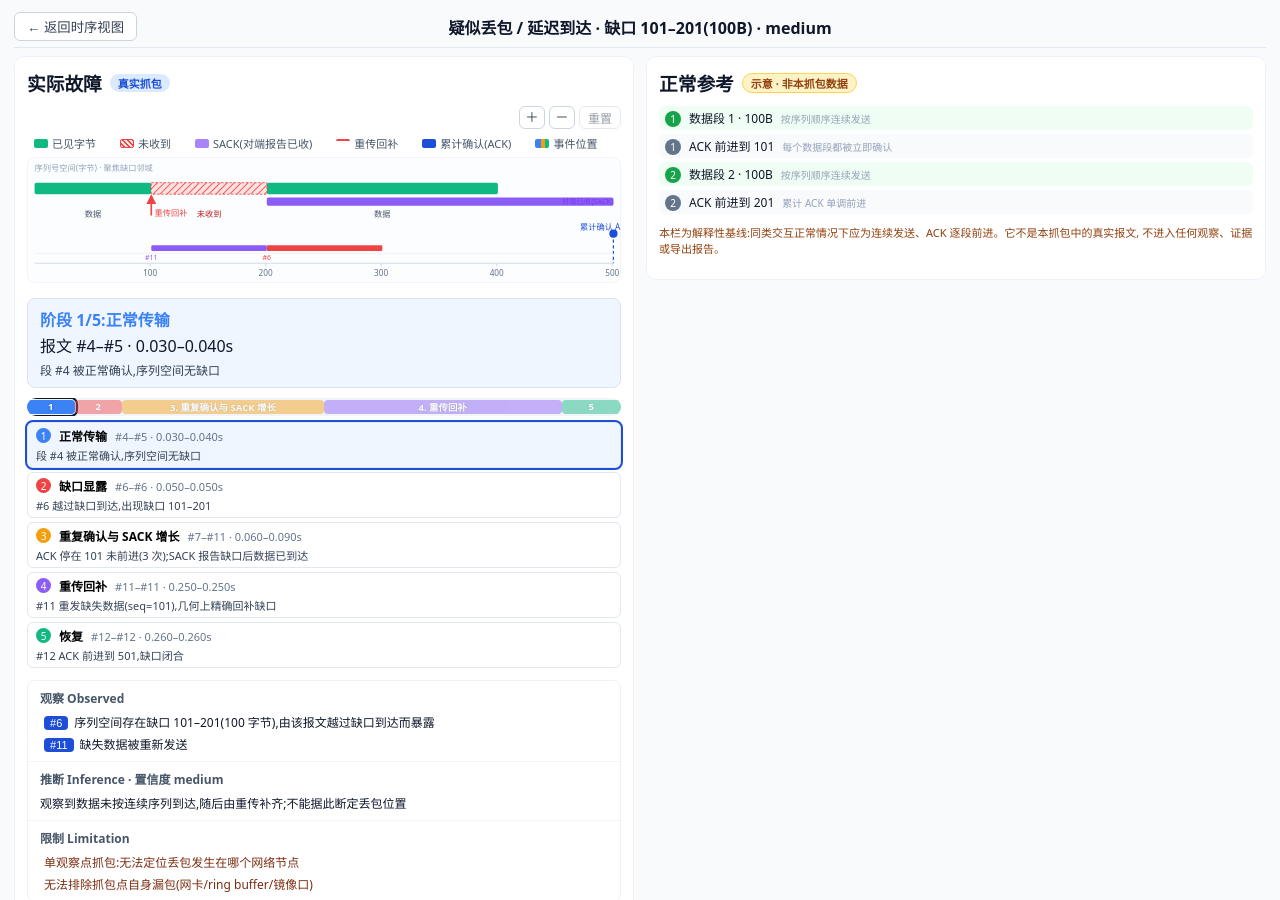
Test: FaultCompare 完整序列空间视图(M5:缩放/筛选) › 缩放控件:放大改变刻度窗口,重置恢复;未缩放时重置禁用
This screenshot has width=1280, height=900.
Check: the picture with test id "fc-seqspace" shows "500", box [605,268,619,279]
Check: the button with test id "fc-zoom-reset" is disabled, box [579,106,621,129]
Click the button with test id "fc-zoom-in" at (532, 118), box [519,106,545,129]
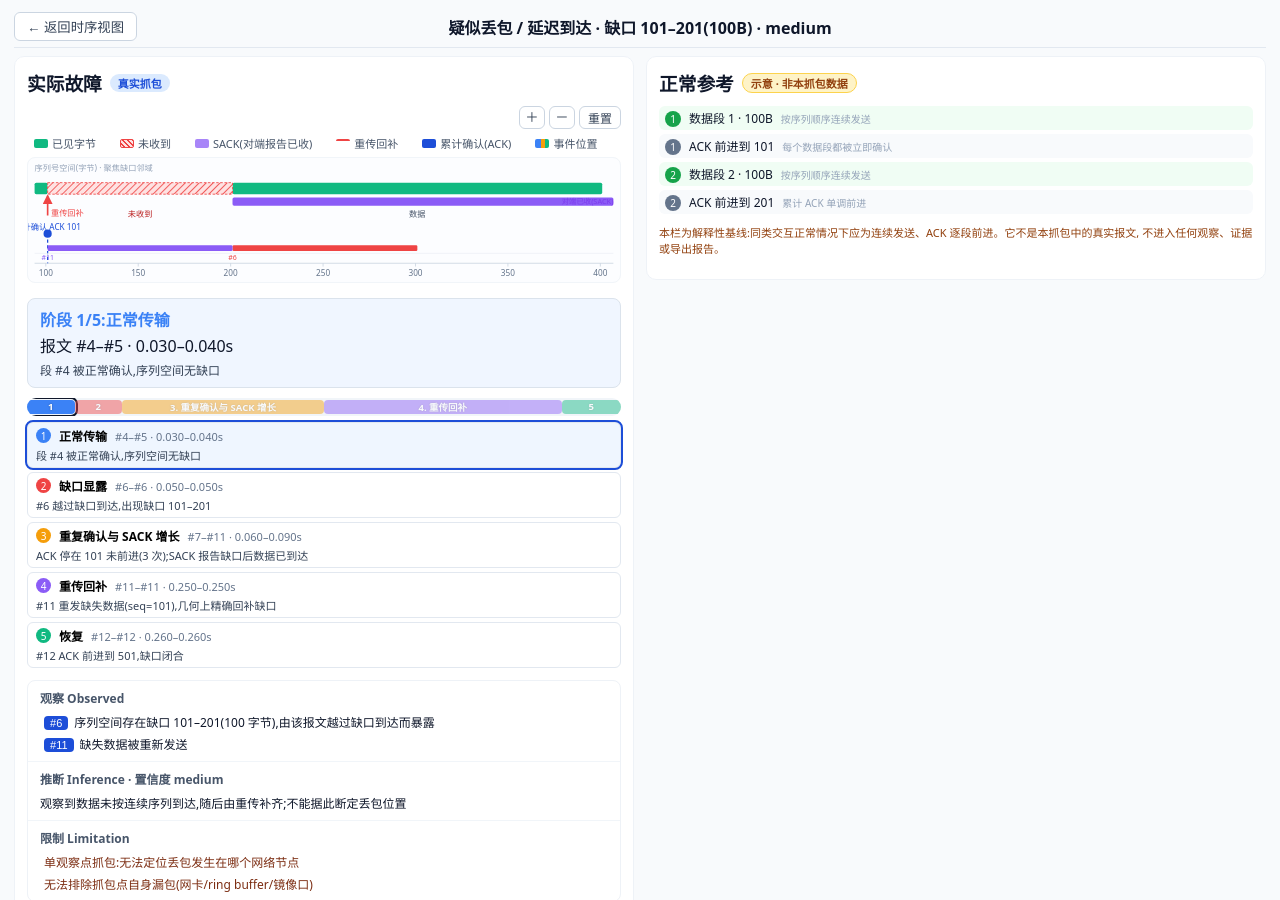
Check: the picture with test id "fc-seqspace" no longer shows "500"
Click the button with test id "fc-zoom-reset" at (600, 118), box [579,106,621,129]
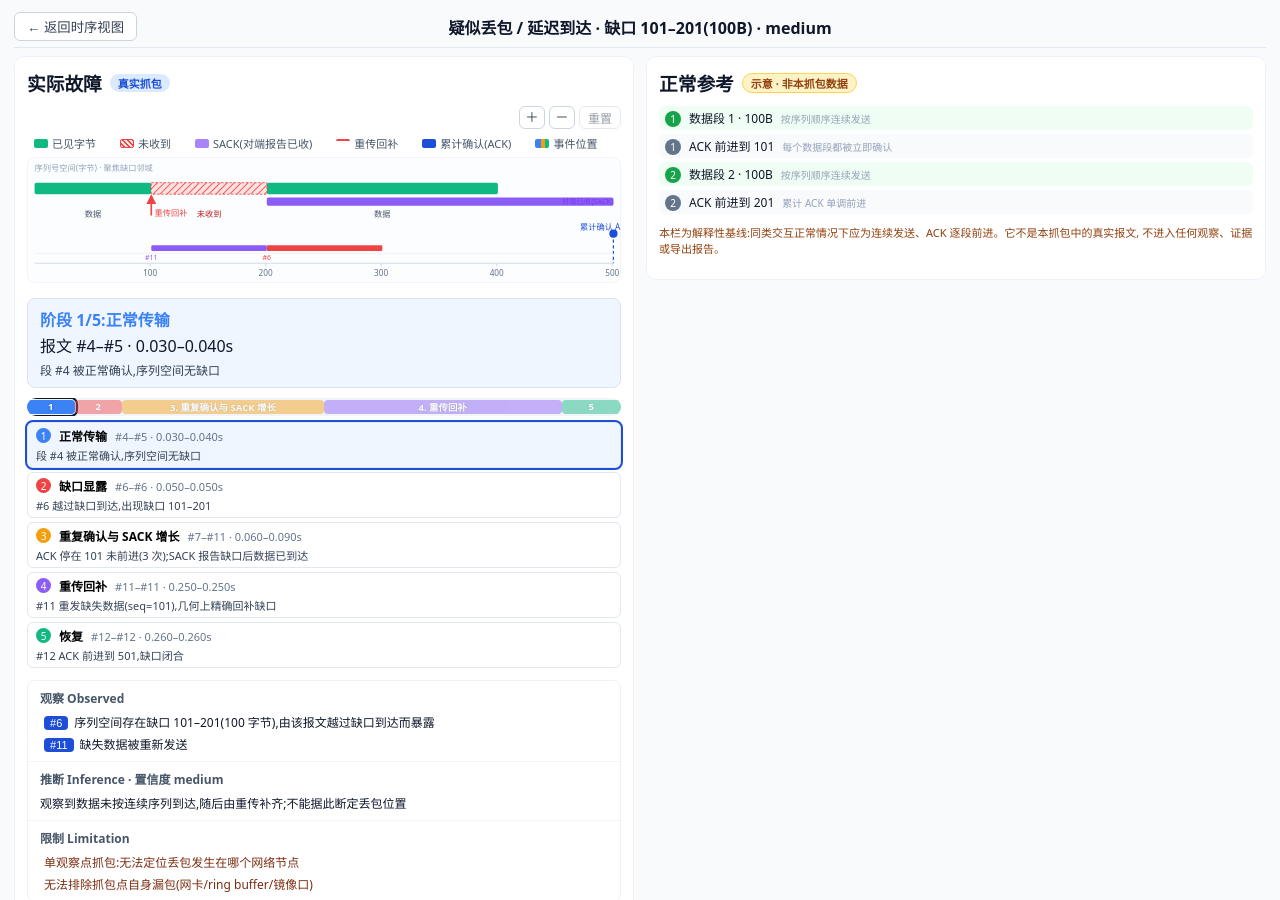
Check: the picture with test id "fc-seqspace" shows "500", box [605,268,619,279]
# 缩小回全轴后 500 回到窗口内
Click the button with test id "fc-zoom-in" at (532, 118), box [519,106,545,129]
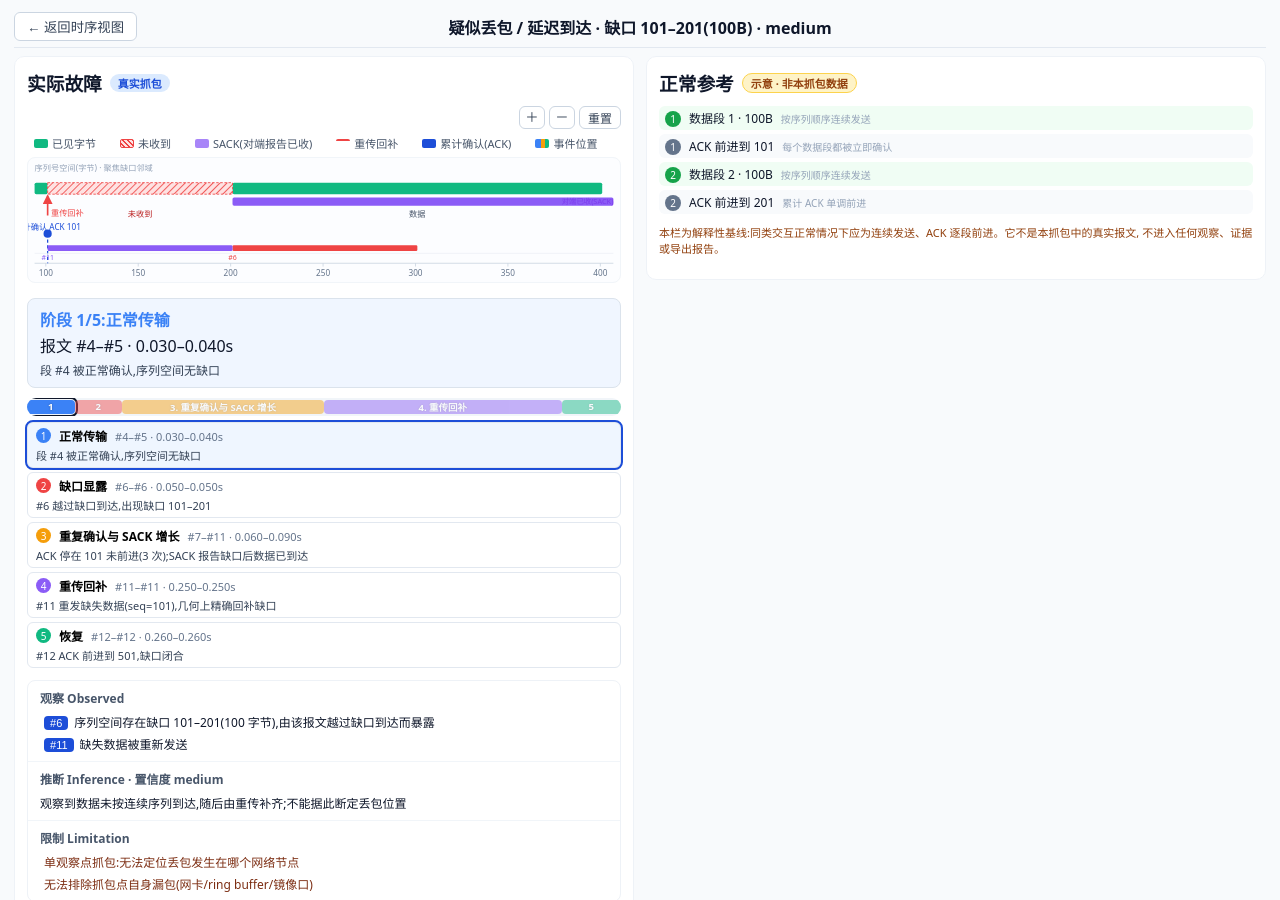
Click the button with test id "fc-zoom-out" at (562, 118), box [549,106,575,129]
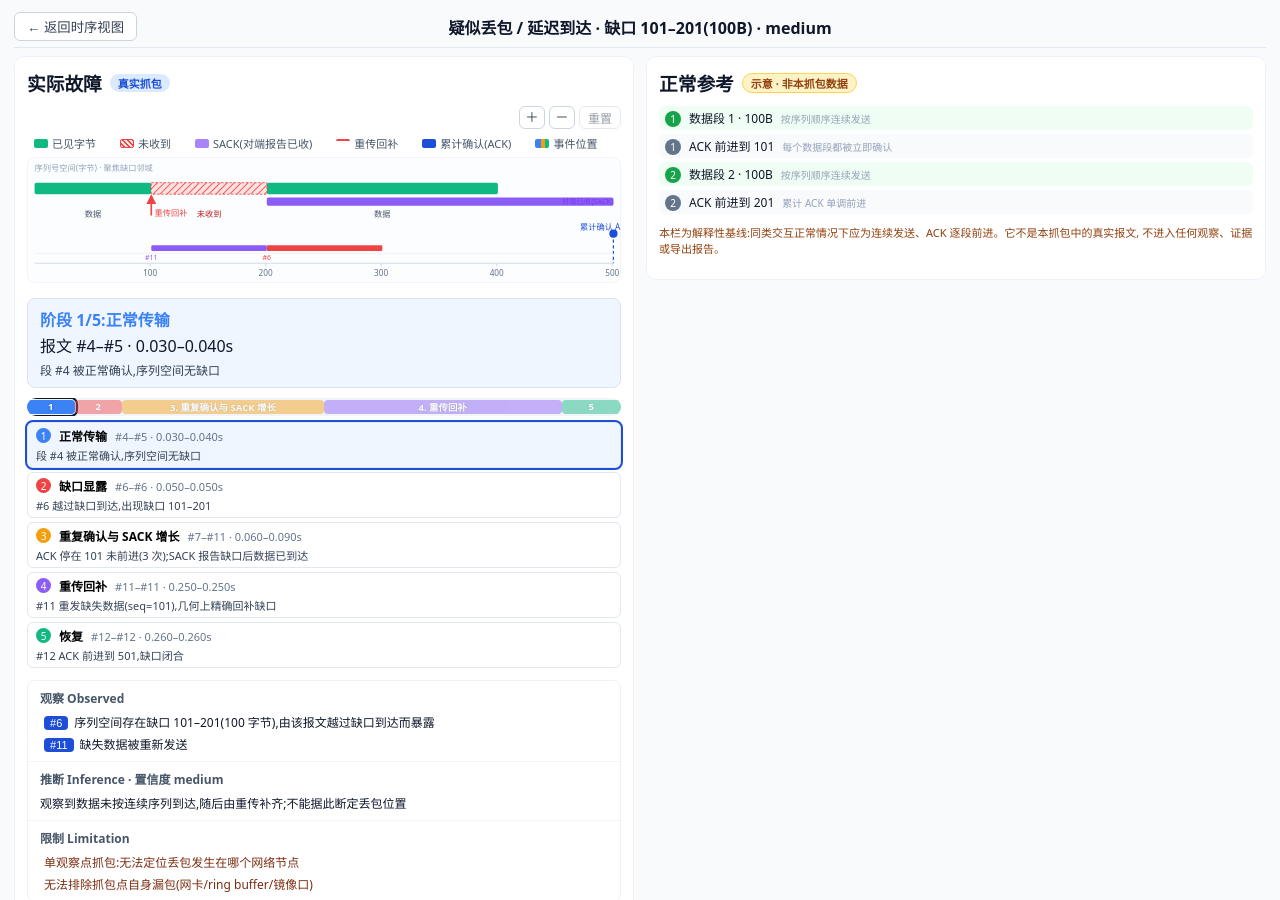
Check: the picture with test id "fc-seqspace" shows "500", box [605,268,619,279]
